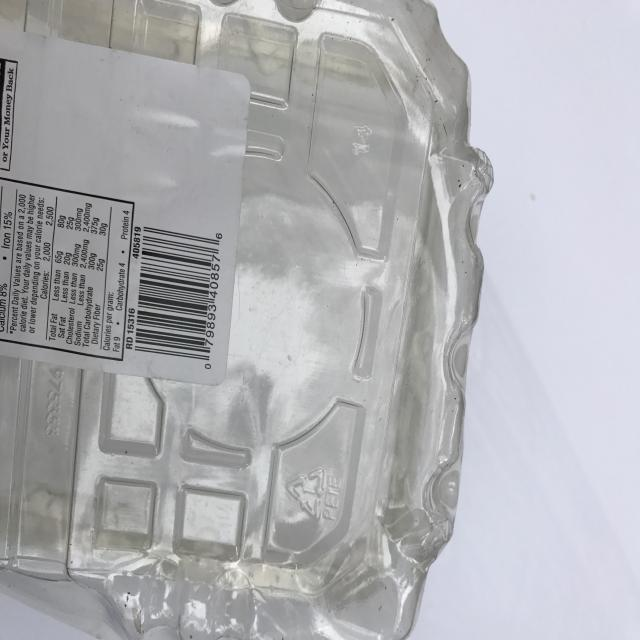plastic: (1, 0, 493, 639)
